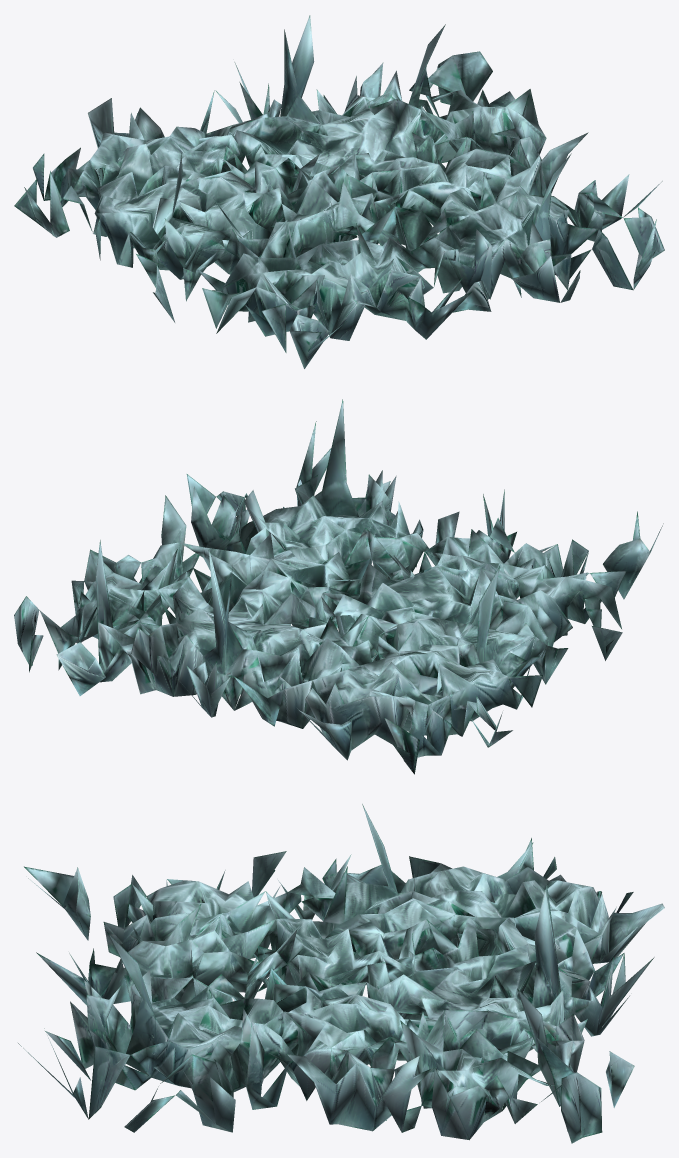
The picture shows the model from 3 angles, top to bottom: view 1: azimuth 30°, elevation 25°; view 2: azimuth 150°, elevation 25°; view 3: azimuth 270°, elevation 25°; orthographic projection. The views are drawn at different scales.
Parts seen in each view (by area): view 1: Mesh_0; view 2: Mesh_0; view 3: Mesh_0.
Part boxes in pixels (x1,y1,x2,y2): Mesh_0: [14, 15, 664, 368]; Mesh_0: [14, 399, 663, 774]; Mesh_0: [18, 804, 664, 1143].
Bounding box in the file's own units: 1.68 × 0.5075 × 1.78.
Materials: 1 (1 with a texture image).
